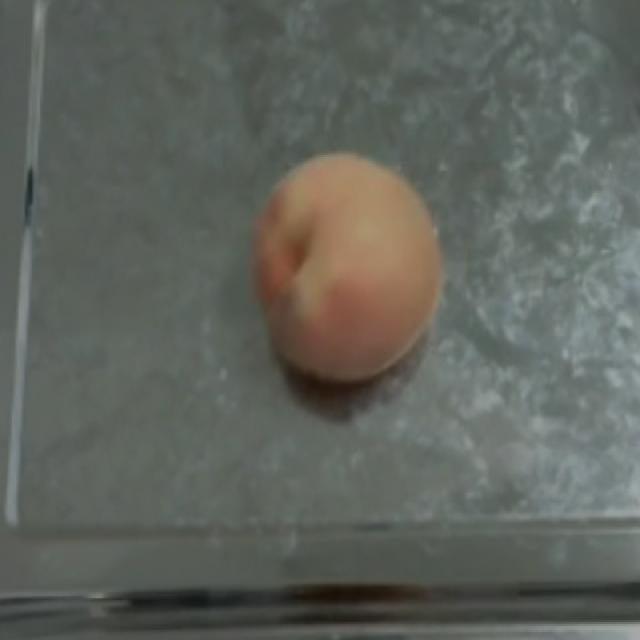Fruit: (235, 129, 460, 398)
